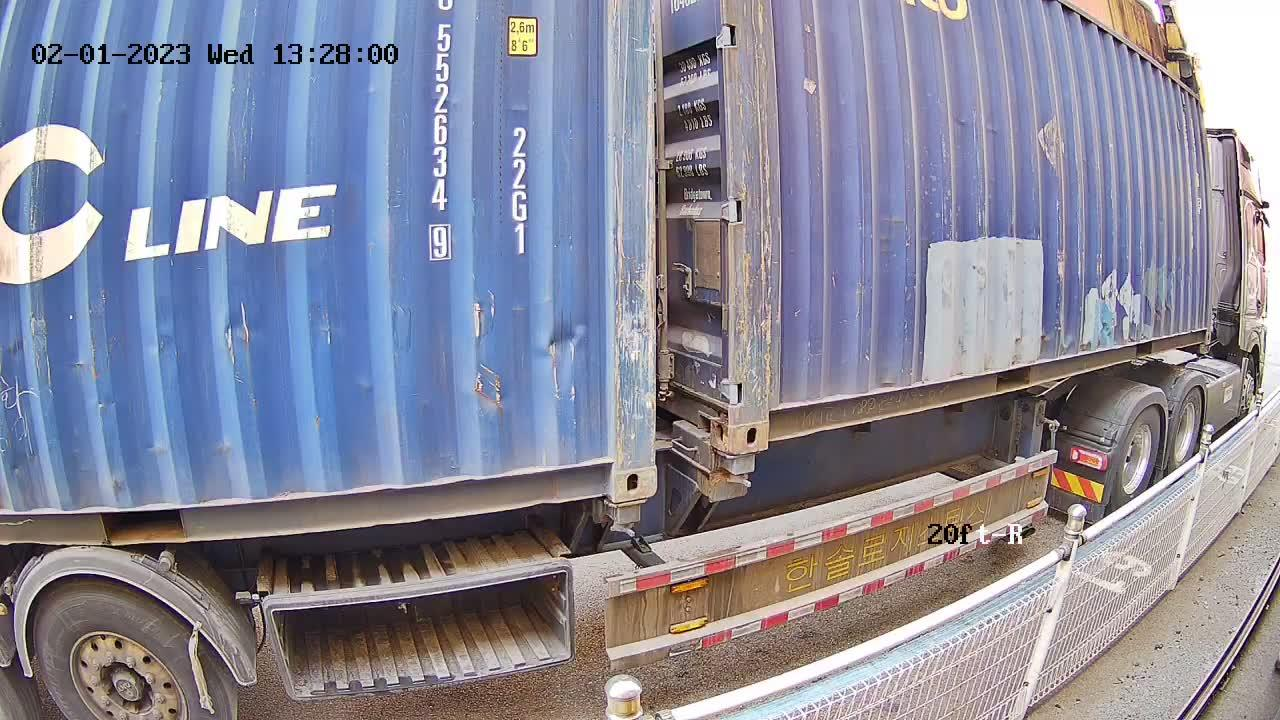Cone: (605, 501, 652, 540), (716, 453, 757, 487)
Hole_L: (731, 380, 806, 453)
Hole_R: (569, 423, 657, 501), (685, 370, 731, 454)
Tire: (31, 584, 230, 719), (1113, 406, 1161, 509), (1170, 384, 1204, 471)
